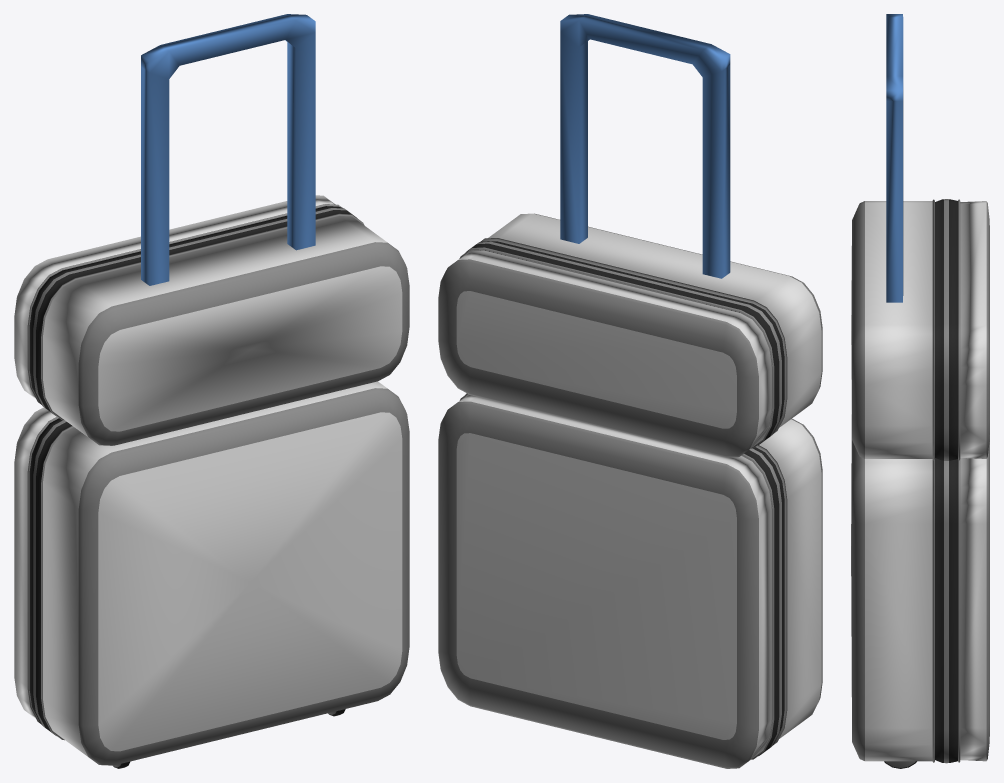
Rendered from Trolley-3.fbx.
The picture shows the model from 3 angles, left to right: view 1: azimuth 30°, elevation 25°; view 2: azimuth 150°, elevation 25°; view 3: azimuth 270°, elevation 25°; orthographic projection. The views are drawn at different scales.
Parts seen in each view (by area): view 1: Trolley-3; view 2: Trolley-3; view 3: Trolley-3.
Part boxes in pixels (box(x1,y1,x2,y2)): Trolley-3: box(14, 14, 409, 768); Trolley-3: box(438, 14, 822, 768); Trolley-3: box(851, 14, 989, 768).
Size of the model in its own units: 6.14 by 12.55 by 2.36.
